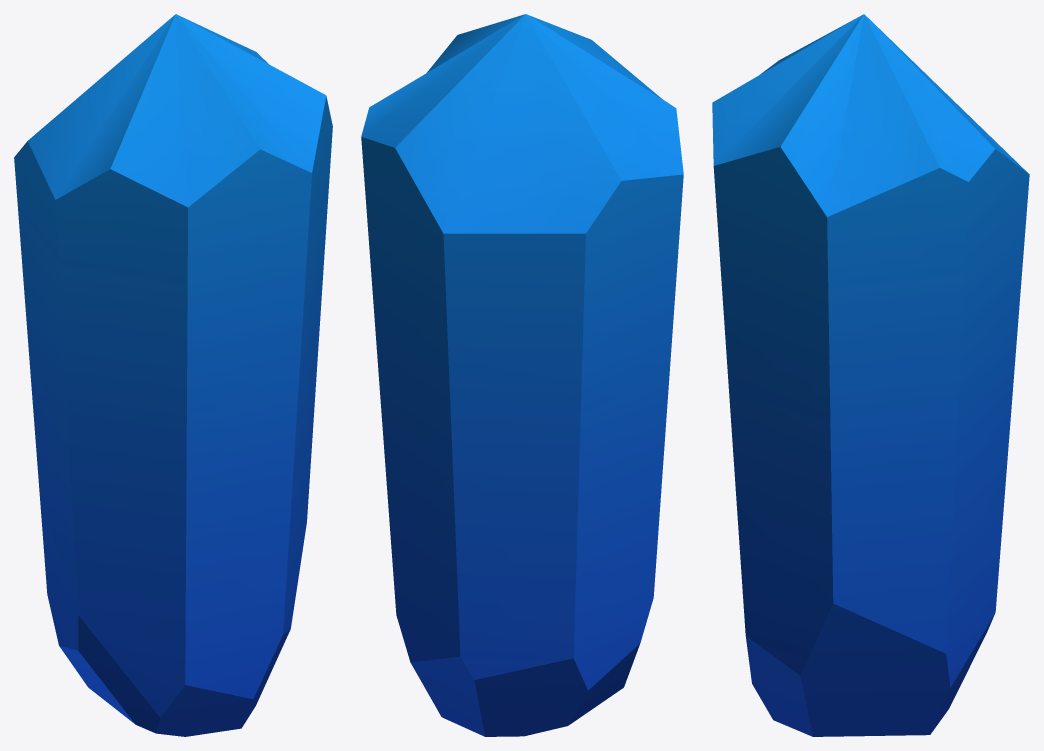
File: crystal.glb
3 renders of one model, left to right at view 1: azimuth 30°, elevation 25°; view 2: azimuth 150°, elevation 25°; view 3: azimuth 270°, elevation 25°, orthographic.
Parts seen in each view (by area): view 1: crystal_10; view 2: crystal_10; view 3: crystal_10.
Part boxes in pixels (bbox=[...]): crystal_10: bbox=[14, 14, 332, 736]; crystal_10: bbox=[361, 14, 683, 736]; crystal_10: bbox=[712, 14, 1029, 736].
Bounding box in the file's own units: 4.02 × 9.5 × 3.93.
1 material, 1 textured.
